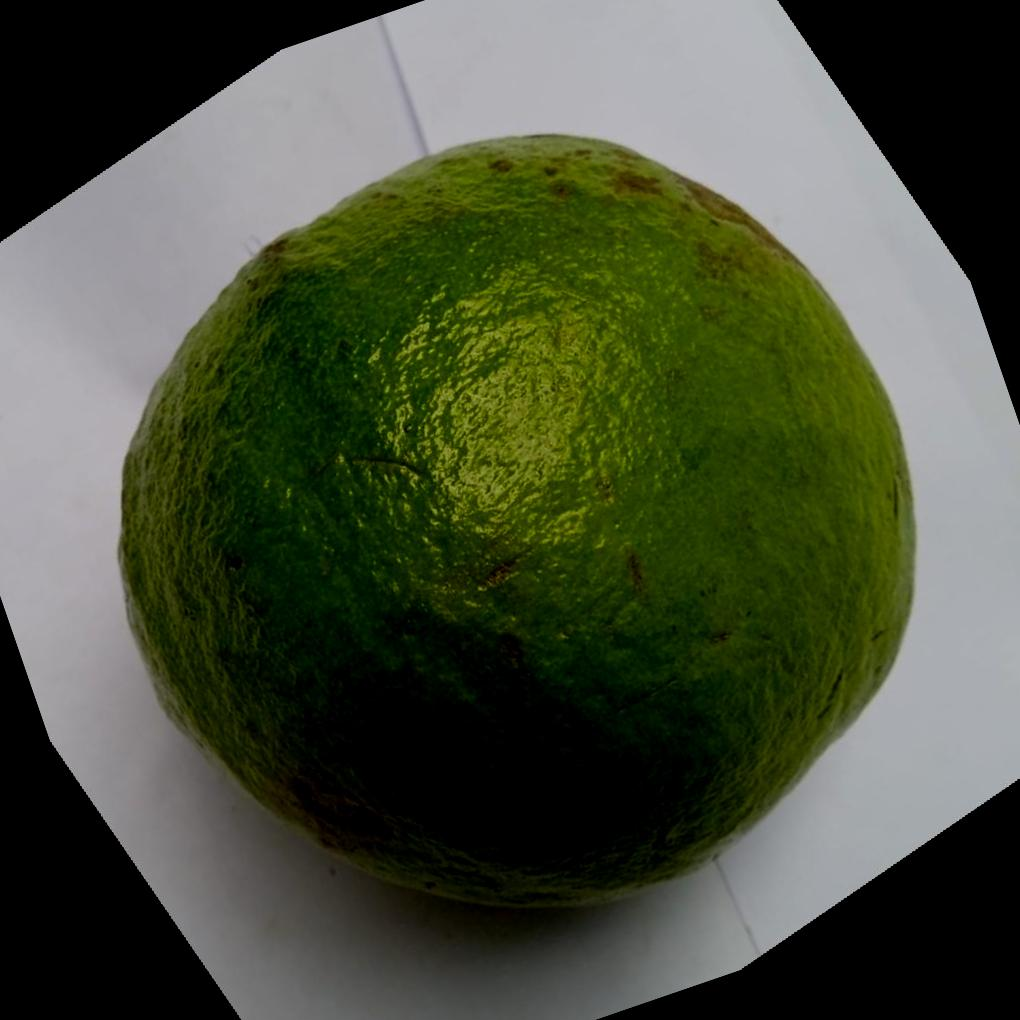FreshGuava: (117, 135, 918, 916)
